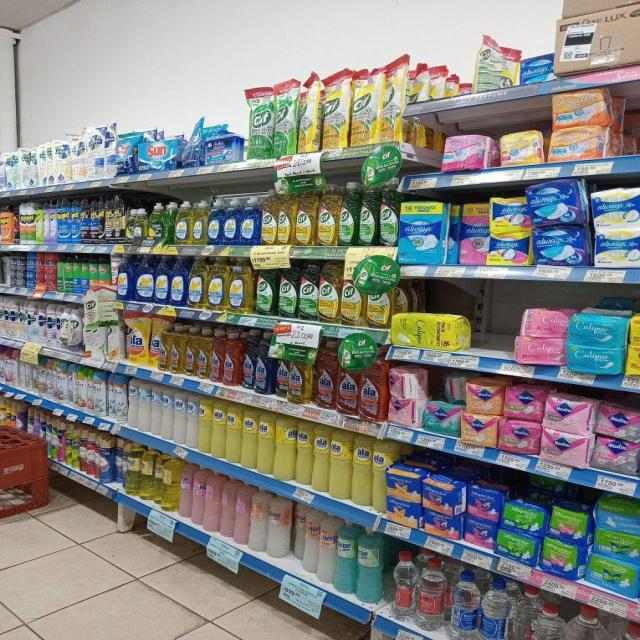ala_conc_amarillo: (289, 351, 313, 404), (170, 324, 184, 374), (198, 327, 211, 380), (185, 325, 197, 376), (276, 352, 289, 399)
ala_conc_azul: (256, 337, 274, 395), (242, 330, 255, 391)
ala_conc_rojo: (359, 359, 386, 422), (316, 340, 338, 410), (338, 359, 358, 415), (224, 329, 241, 386), (211, 328, 224, 383)
ala_crem_amarillo: (329, 429, 352, 500), (352, 436, 372, 507), (275, 416, 296, 482), (313, 424, 330, 493), (372, 439, 388, 512), (296, 420, 312, 487), (242, 405, 258, 470), (258, 411, 274, 476), (226, 402, 242, 464), (212, 398, 226, 459), (198, 395, 212, 454)
ala_crem_blanco: (186, 392, 198, 449), (174, 390, 186, 445), (138, 382, 151, 432), (162, 388, 173, 440), (151, 385, 162, 436)
ala_sachet_amarillo: (126, 311, 148, 365), (150, 315, 169, 370)
cif_conc_bot_amarilla: (340, 261, 362, 326), (318, 260, 339, 324), (318, 183, 338, 246), (296, 189, 316, 246), (364, 288, 392, 328), (278, 190, 294, 245), (261, 192, 277, 246)
cif_conc_botella_verde: (338, 182, 358, 246), (254, 258, 276, 316), (378, 185, 398, 246), (358, 182, 377, 246), (278, 258, 298, 318), (299, 259, 318, 320)
cif_conc_sachet_amarillo: (351, 64, 379, 146), (322, 68, 349, 149), (380, 56, 403, 144)
cif_conc_sachet_verde: (247, 84, 273, 160), (274, 77, 296, 156)
heroe: (357, 528, 385, 604), (268, 494, 292, 558), (336, 522, 357, 595), (318, 514, 336, 586), (294, 503, 310, 572), (303, 506, 319, 574), (126, 442, 140, 493), (180, 461, 192, 520)
magistral_con_amarillo: (228, 256, 253, 314), (206, 256, 228, 312), (188, 255, 206, 309), (173, 200, 191, 245), (126, 207, 146, 246), (191, 200, 206, 246)
magistral_con_azul: (239, 196, 260, 246), (134, 254, 154, 303), (170, 255, 187, 307), (154, 255, 170, 305), (222, 197, 238, 246), (206, 198, 222, 246), (116, 255, 132, 300)
magistral_con_verde: (150, 203, 164, 243)
